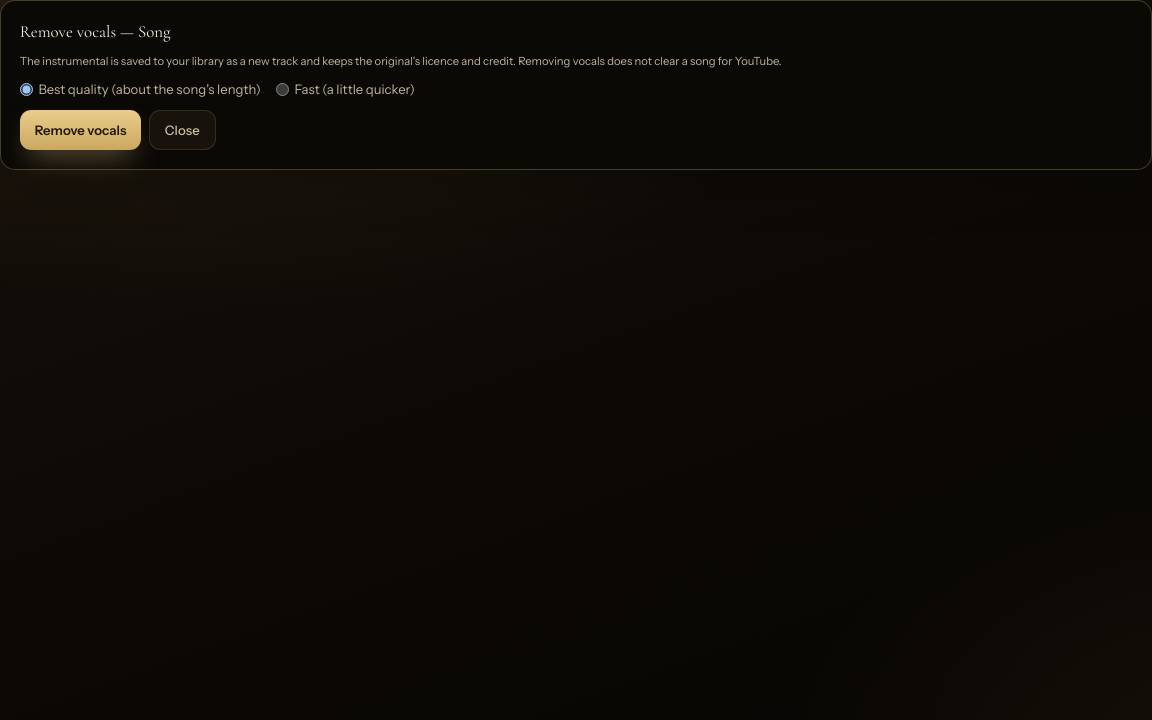
Test case: InstrumentalDialog › shows the poll error instead of "Removing vocals… 0%" forever when the first poll never lands
Step 1. Click the button "Remove vocals" → [81, 130], box x1=20 y1=110 x2=141 y2=150
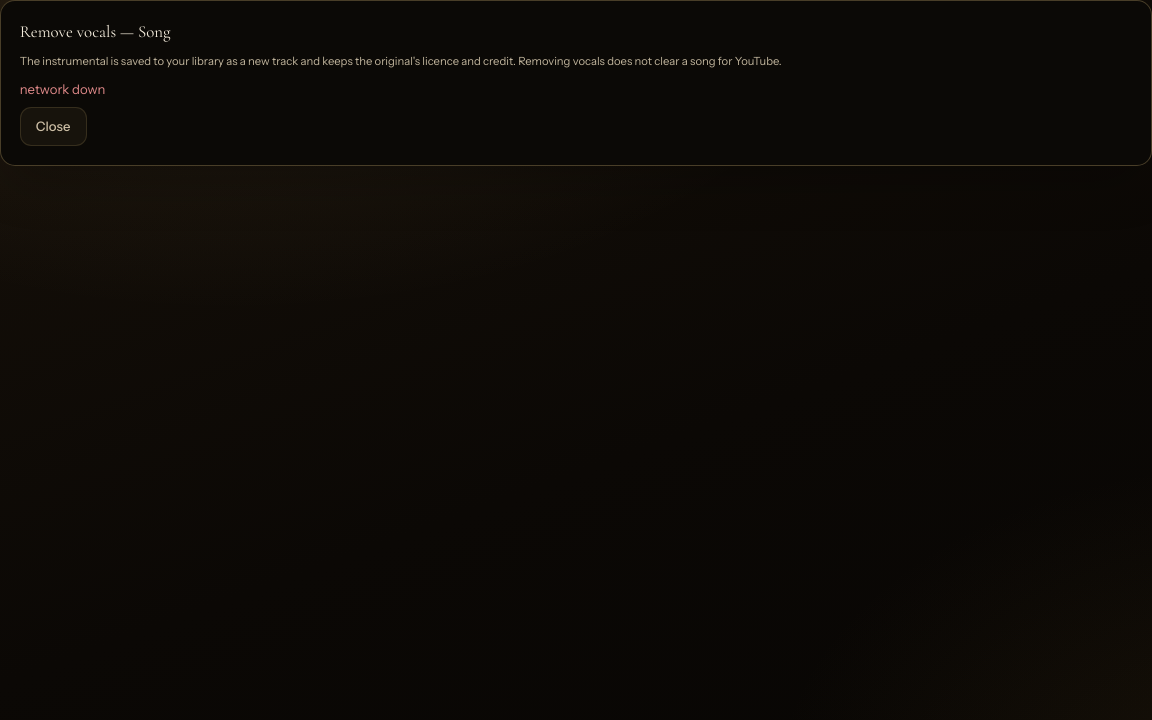
Expected: the text "network down" is shown, x1=20 y1=82 x2=105 y2=98
